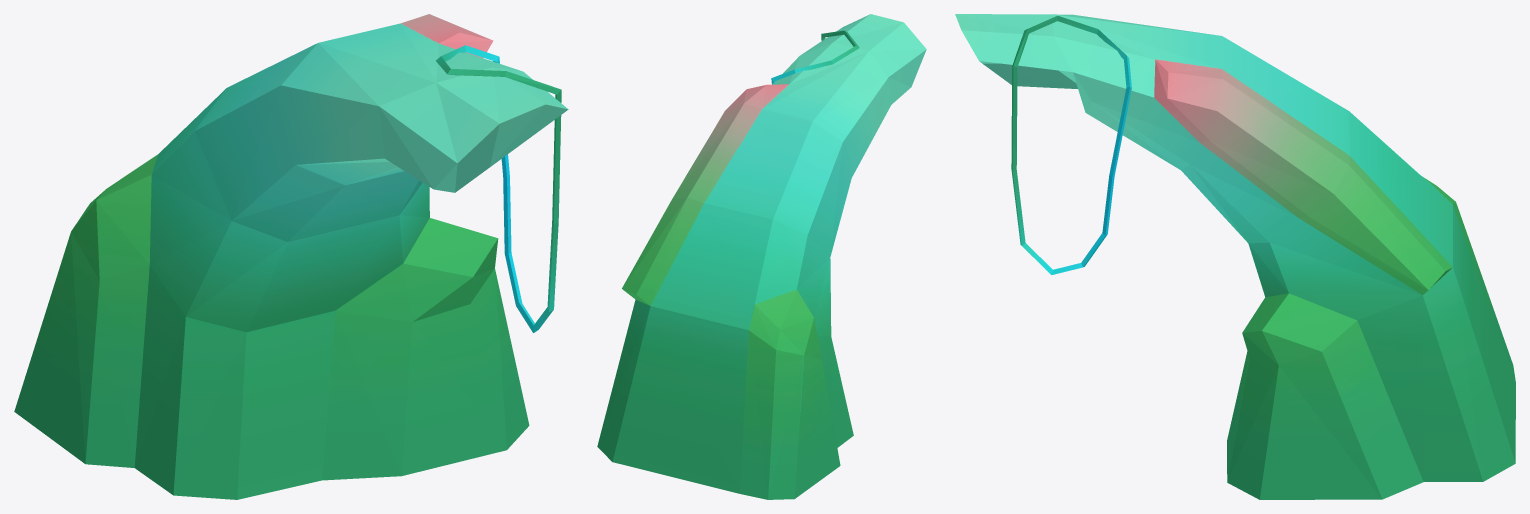
File: SM_APP_Lush_Cliff_E.glb
3 views of the same model, side by side, from view 1: azimuth 30°, elevation 25°; view 2: azimuth 150°, elevation 25°; view 3: azimuth 270°, elevation 25° (orthographic). The views are drawn at different scales.
Visible parts, largest first — view 1: SM_APP_Lush_Cliff_E; view 2: SM_APP_Lush_Cliff_E; view 3: SM_APP_Lush_Cliff_E.
Boxes of the visible parts, x1,y1,x2,y2 form: SM_APP_Lush_Cliff_E: (14, 14, 568, 499); SM_APP_Lush_Cliff_E: (597, 14, 926, 499); SM_APP_Lush_Cliff_E: (955, 14, 1515, 499).
Size of the model in its own units: 16.34 by 20.93 by 26.2.
Materials: 1 (1 with a texture image).
